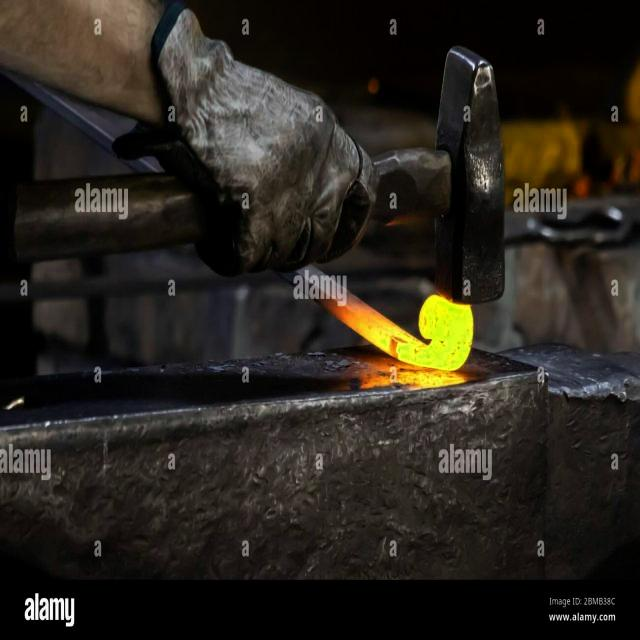hammer: (8, 48, 520, 304)
